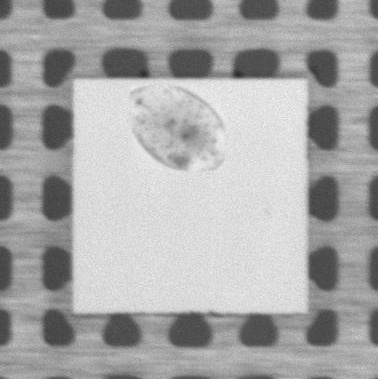DIE_INK: (126, 81, 227, 175)
